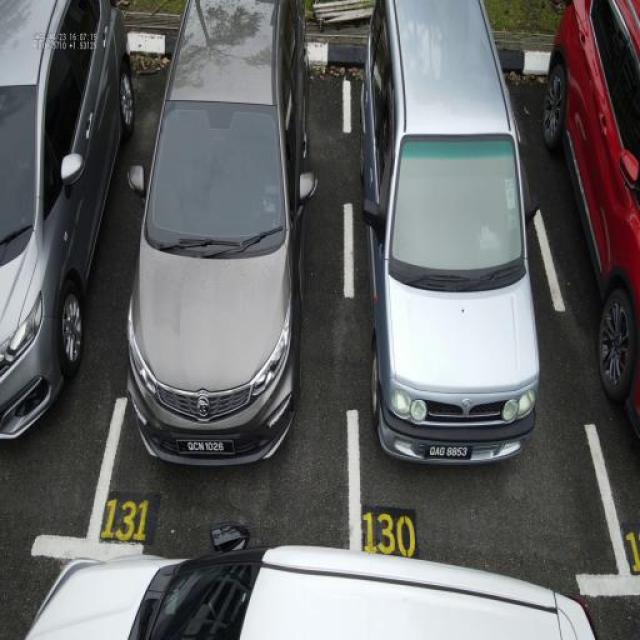Legalparking: (128, 0, 316, 464), (360, 0, 538, 462), (26, 521, 594, 639), (0, 0, 134, 439), (542, 0, 639, 435)
illegalparking: (26, 521, 594, 639)
